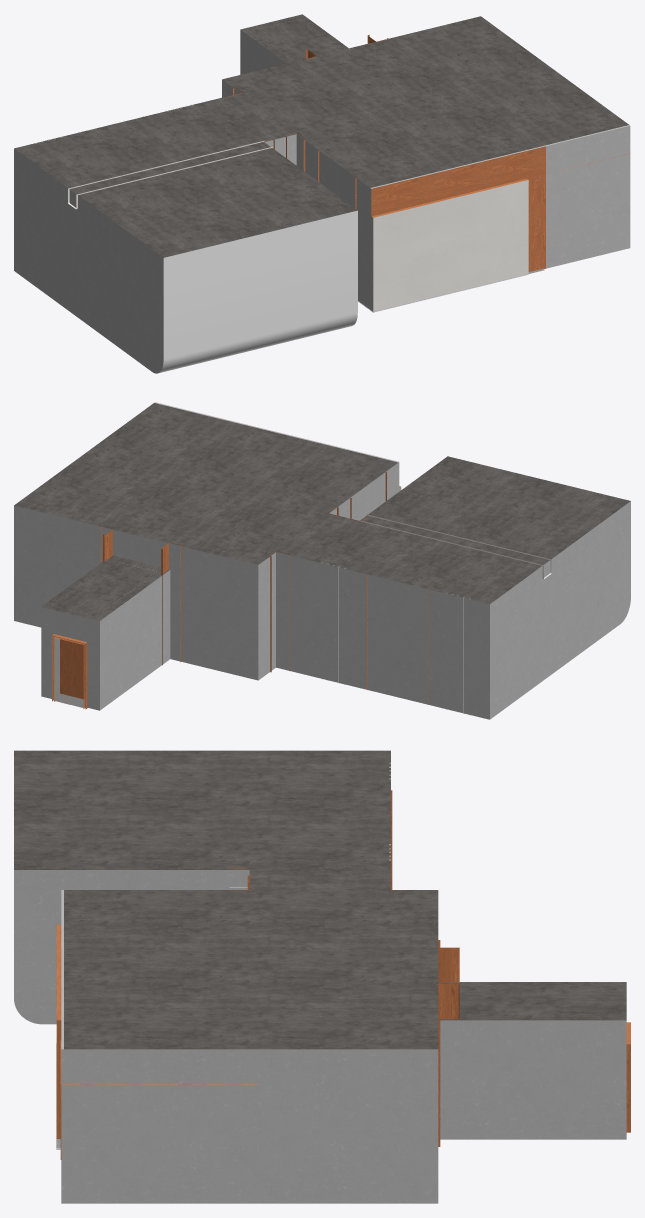
File: room.glb
3 renders of one model, top to bottom at view 1: azimuth 30°, elevation 25°; view 2: azimuth 150°, elevation 25°; view 3: azimuth 270°, elevation 25°, orthographic. The views are drawn at different scales.
Visible parts, largest first — view 1: Shell, FakeMirror, CeilingBrace; view 2: Shell, Door, CornerSupports, CeilingBrace; view 3: Shell, CornerSupports.
Part boxes in pixels (left/top/right/bottom): Shell: left=14, top=14, right=630, bottom=373; FakeMirror: left=373, top=180, right=528, bottom=312; CeilingBrace: left=68, top=140, right=272, bottom=209; Shell: left=14, top=402, right=630, bottom=719; Door: left=52, top=634, right=87, bottom=709; CornerSupports: left=100, top=507, right=369, bottom=672; CeilingBrace: left=358, top=514, right=551, bottom=578; Shell: left=14, top=750, right=626, bottom=1203; CornerSupports: left=228, top=867, right=459, bottom=1146.
Size of the model in its own units: 15.06 by 3.67 by 13.1.
Materials: 9 (8 with a texture image).
